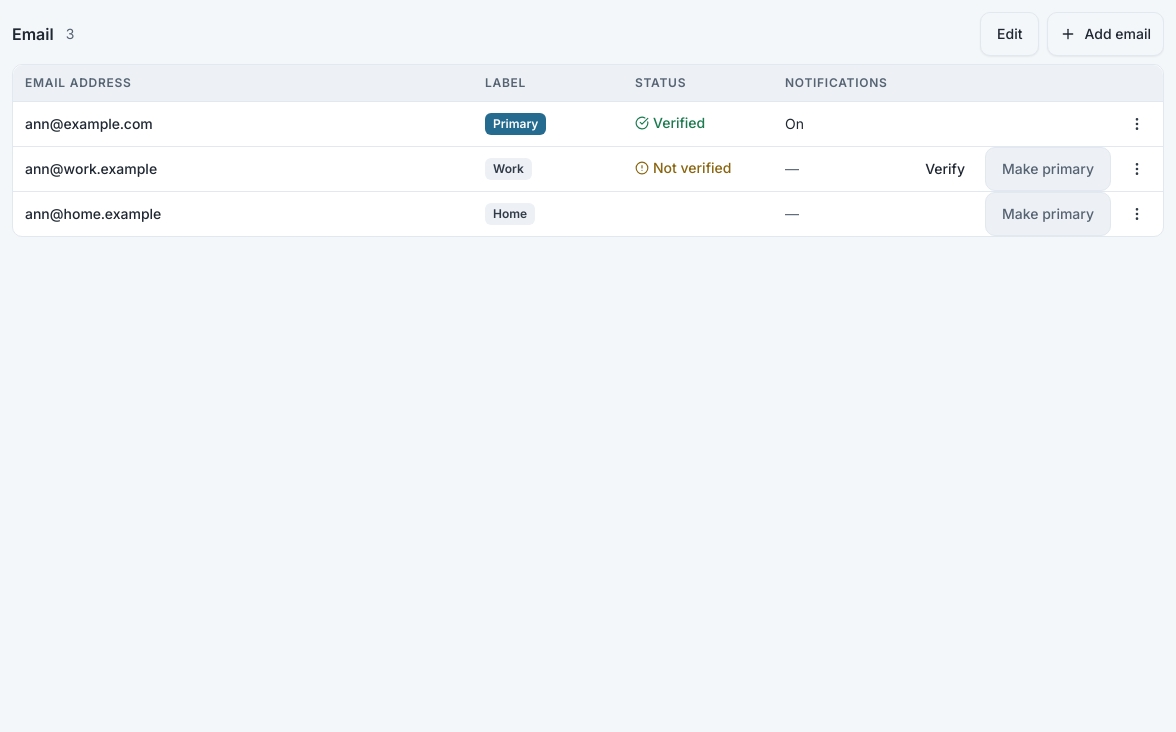
Test case: EmailSection: read-view entry points › Edit switches the whole table in place: Editing, focus on the first editable Label; addresses locked with their help; the Primary label locked
Step 1. Click the button "Edit" → (1010, 34), box [980,12,1040,56]
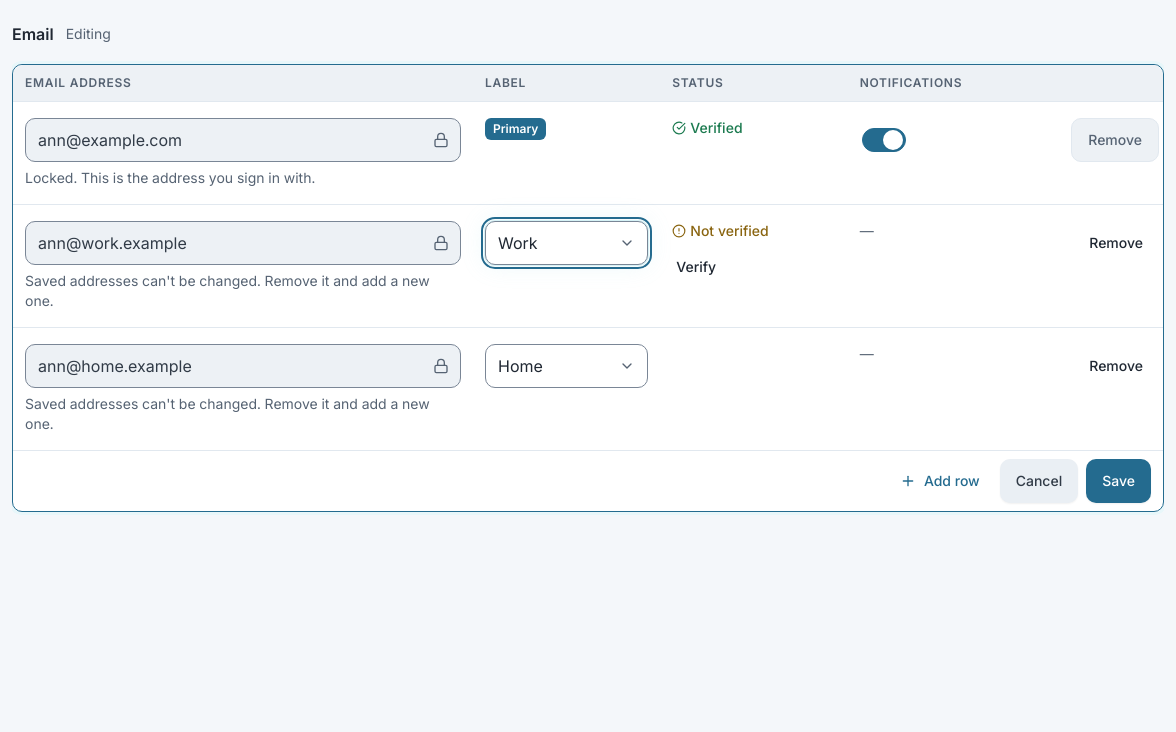
Expected: the text "Verified" is shown, [672,118,742,138]
Now the text "Editing" is shown, box [66,24,111,44]
Now the buttons read "Add row", "Cancel", "Save", in this order, box [888,458,992,502]; [1000,458,1078,502]; [1086,458,1151,502]
